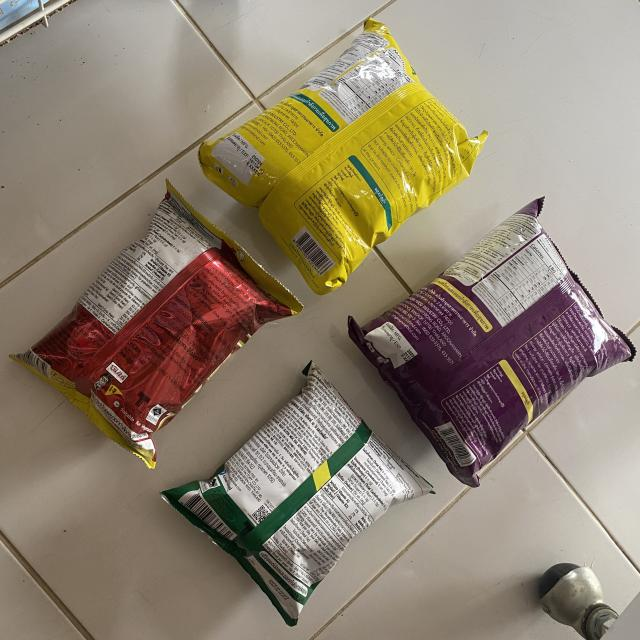plastik: (10, 181, 302, 468), (348, 198, 635, 486), (199, 19, 488, 294), (161, 362, 434, 625)
